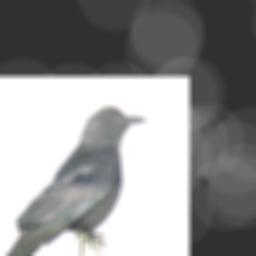Crow: (0, 104, 152, 256)
